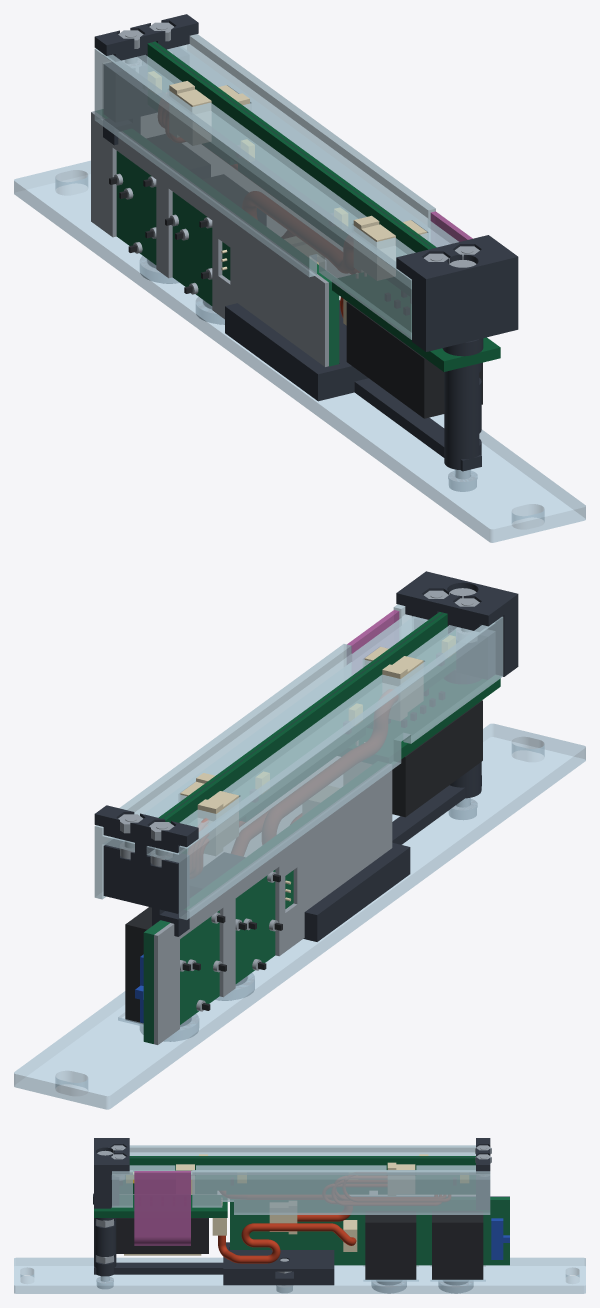
File: zudo_led_block_A7_3hp_assembled.glb
3 renders of one model, top to bottom at view 1: azimuth 30°, elevation 25°; view 2: azimuth 150°, elevation 25°; view 3: azimuth 270°, elevation 25°, orthographic. The views are drawn at different scales.
Visible parts, largest first — view 1: left_diffuser, front_pmma_A7, solder_face_low_profile_zone, spine_PETG, left_leaf_pcb_A5, top_leaf_adapter_cap, right_diffuser, controller_pcb_A7, adapter_C5665_keyed_header, bottom_leaf_cap, power_adapter_pcb_A5, controller_to_left_leaf_sh4 (+6 smaller); view 2: left_diffuser, front_pmma_A7, solder_face_low_profile_zone, left_leaf_pcb_A5, right_diffuser, controller_pcb_A7, top_leaf_adapter_cap, bottom_leaf_cap, spine_PETG, adapter_C5665_keyed_header, power_adapter_pcb_A5, controller_to_left_leaf_sh4 (+6 smaller); view 3: right_diffuser, front_pmma_A7, right_leaf_pcb_A5, controller_pcb_A7, spine_PETG, IDC_ribbon_R3_side_exit_SCENARIO, left_diffuser, jack_thru_PJ-324M, jack_in_PJ-324M, adapter_to_controller_power, top_leaf_adapter_cap, adapter_C5665_keyed_header (+16 smaller).
Part boxes in pixels (x1,y1,x2,y2): left_diffuser: (94, 48, 415, 339); front_pmma_A7: (14, 160, 585, 542); solder_face_low_profile_zone: (91, 111, 328, 366); spine_PETG: (225, 300, 481, 471); left_leaf_pcb_A5: (147, 42, 431, 296); top_leaf_adapter_cap: (396, 235, 518, 351); right_diffuser: (167, 34, 458, 247); controller_pcb_A7: (96, 109, 339, 366); adapter_C5665_keyed_header: (346, 291, 482, 418); bottom_leaf_cap: (94, 14, 198, 121); power_adapter_pcb_A5: (332, 273, 500, 371); controller_to_left_leaf_sh4: (242, 191, 354, 272); left_diffuser: (146, 616, 503, 919); front_pmma_A7: (14, 723, 585, 1109); solder_face_low_profile_zone: (154, 764, 392, 1044); left_leaf_pcb_A5: (163, 613, 455, 853); right_diffuser: (94, 604, 427, 899); controller_pcb_A7: (143, 761, 386, 1043); top_leaf_adapter_cap: (396, 571, 518, 679); bottom_leaf_cap: (94, 805, 198, 913); spine_PETG: (303, 762, 481, 941); adapter_C5665_keyed_header: (389, 689, 482, 817); power_adapter_pcb_A5: (338, 675, 500, 764); controller_to_left_leaf_sh4: (262, 689, 397, 843); right_diffuser: (112, 1165, 490, 1214); front_pmma_A7: (14, 1257, 585, 1293); right_leaf_pcb_A5: (120, 1157, 475, 1194); controller_pcb_A7: (230, 1197, 509, 1265); spine_PETG: (94, 1218, 334, 1285); IDC_ribbon_R3_side_exit_SCENARIO: (134, 1171, 190, 1245); left_diffuser: (129, 1145, 475, 1155); jack_thru_PJ-324M: (432, 1211, 483, 1284); jack_in_PJ-324M: (365, 1211, 416, 1284); adapter_to_controller_power: (218, 1223, 356, 1263); top_leaf_adapter_cap: (94, 1138, 129, 1208); adapter_C5665_keyed_header: (116, 1218, 208, 1253).
Size of the model in its own units: 14.9 by 33.8 by 129.
